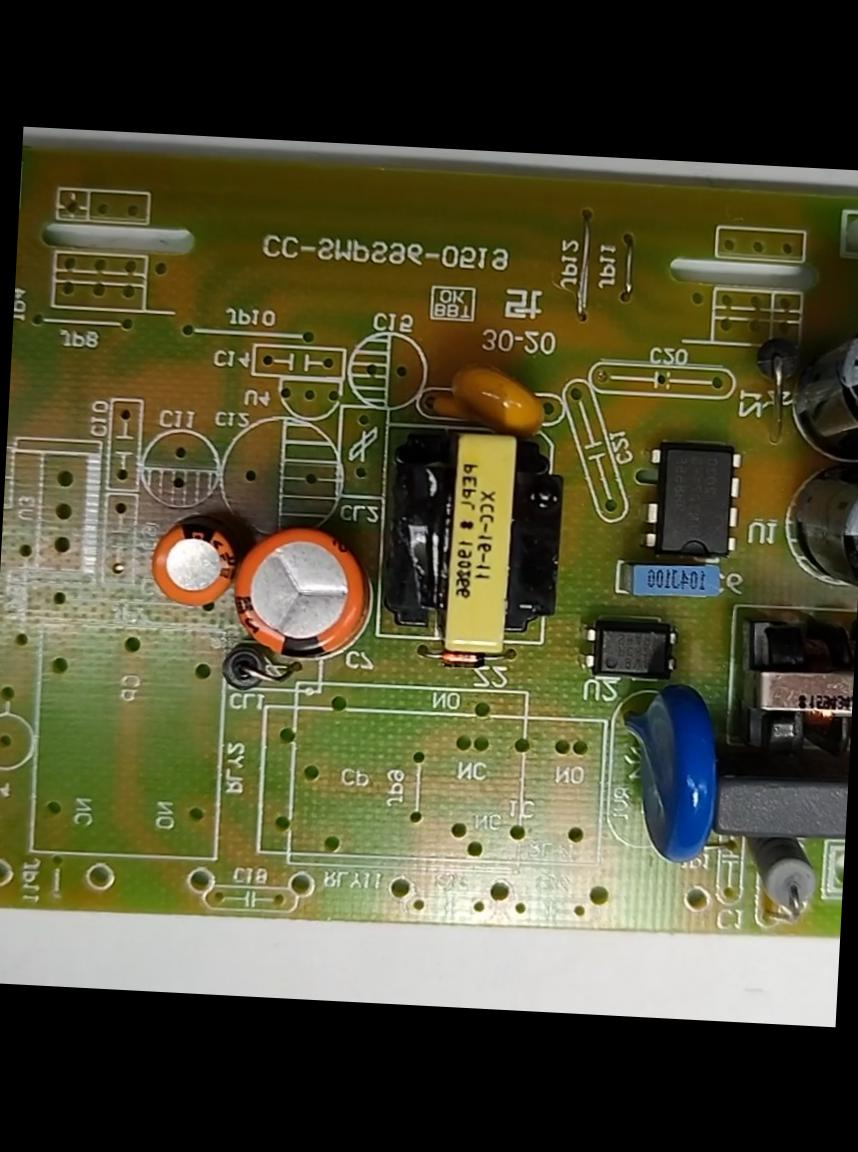Cap1: (228, 515, 377, 665)
Cap2: (142, 512, 245, 613)
Cap3: (780, 446, 857, 608)
Cap4: (784, 301, 857, 465)
MOSFET: (636, 434, 752, 567)
Mov: (603, 675, 738, 874)
Resistor: (736, 826, 828, 921)
Transformer: (370, 414, 574, 665), (720, 598, 856, 769)
